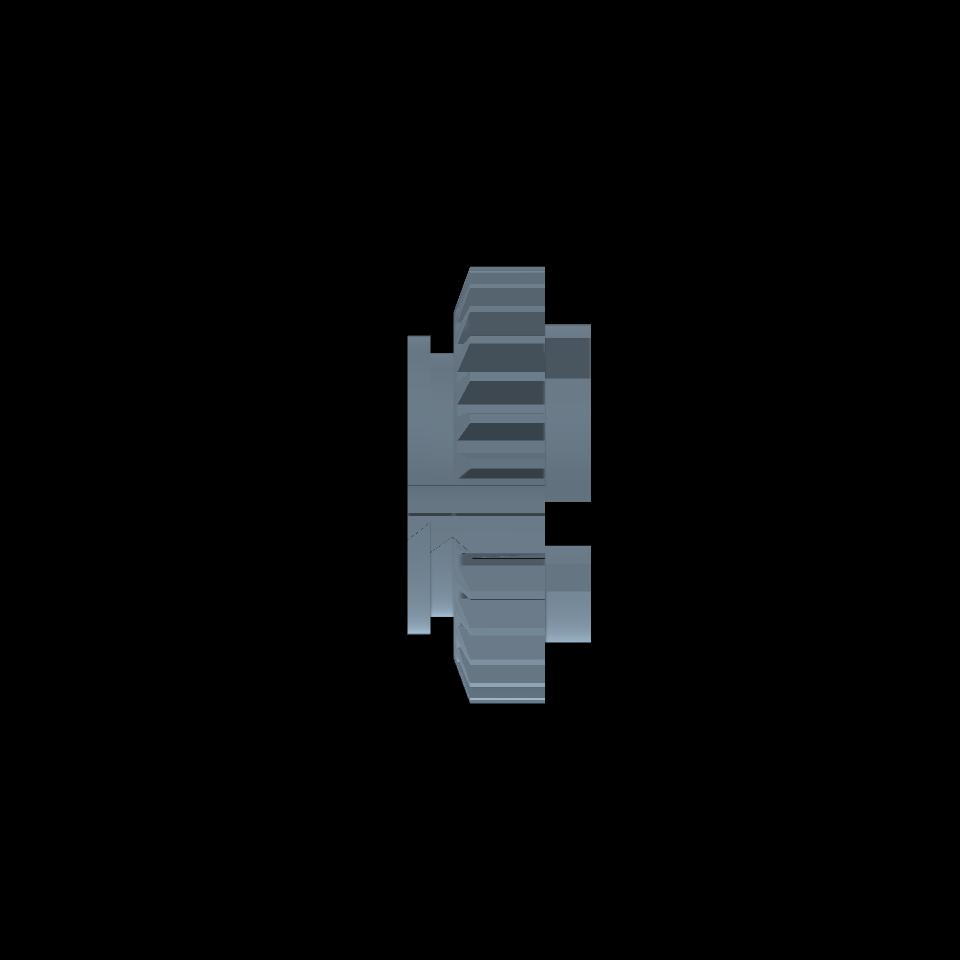Straight: (468, 266, 544, 702)
